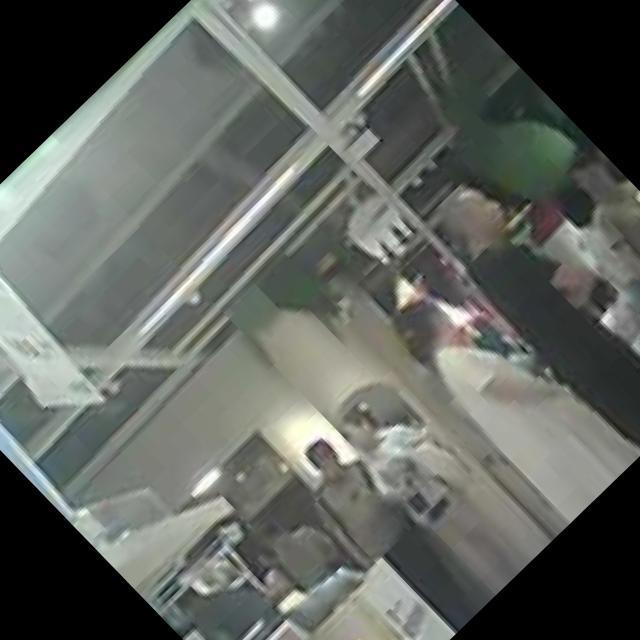person: (379, 253, 640, 525), (415, 160, 640, 456), (320, 374, 541, 600), (272, 420, 497, 640), (549, 144, 640, 371), (560, 199, 640, 383), (248, 498, 352, 604)
